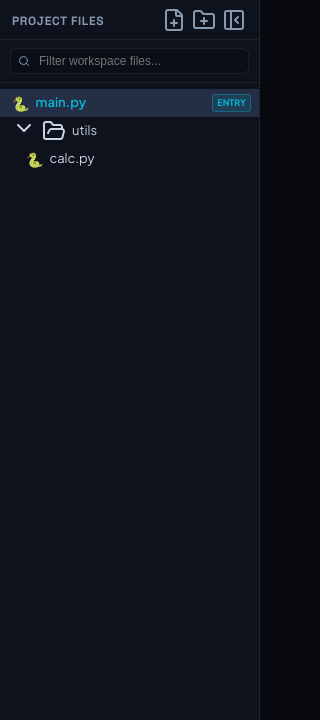
Test: FileExplorer Component QA › filters visible files when typing in search input
In the field with placeholder "Filter workspace files...": (130,61) [10,48,249,74], type "calc"
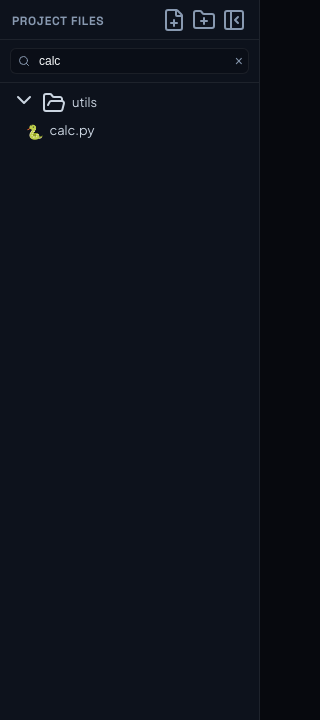
Check: the text "calc.py" is shown, box [50,122,95,138]
Check: the text "main.py" is gone
